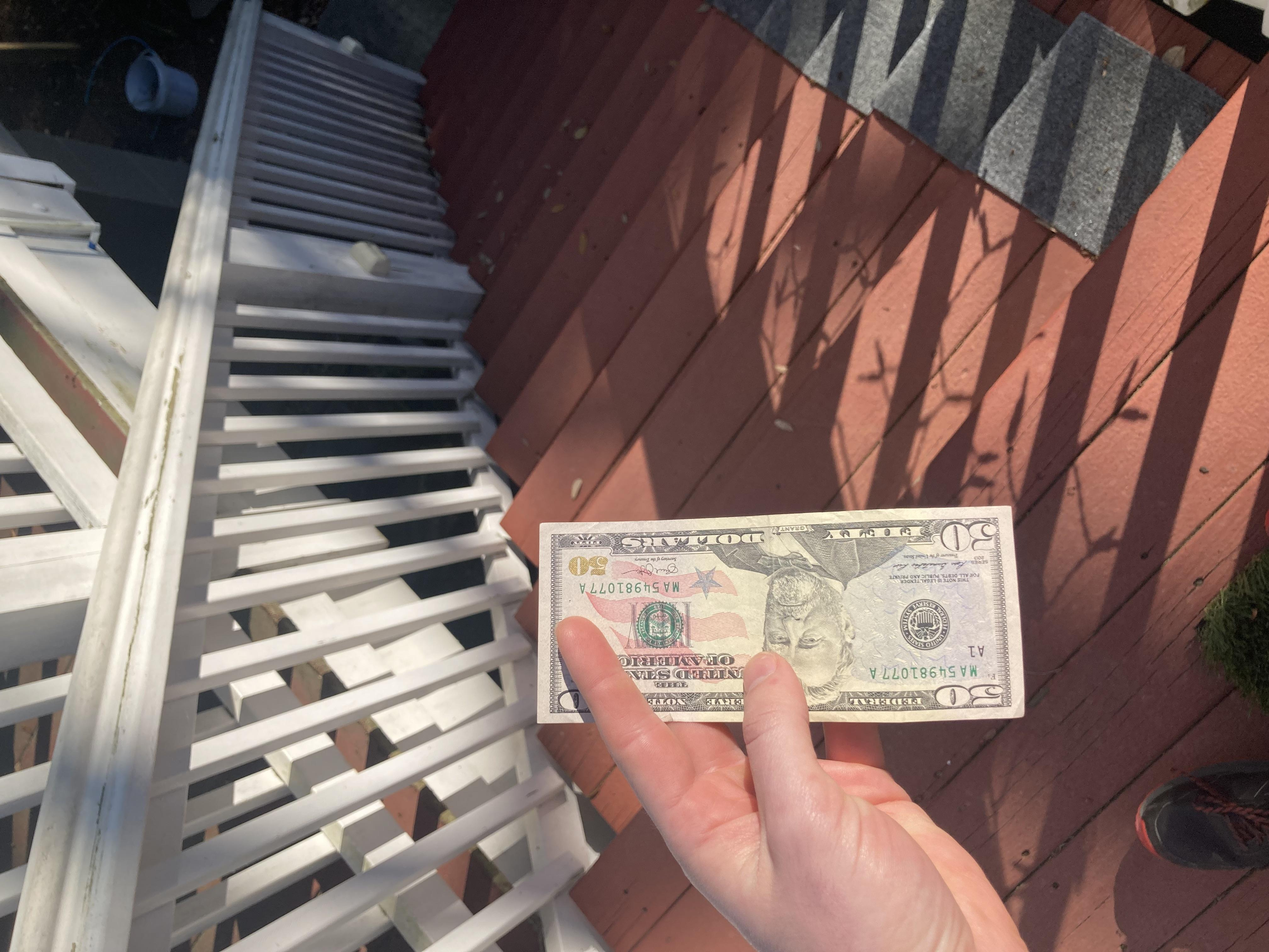fifty-front: (303, 402, 596, 768)
